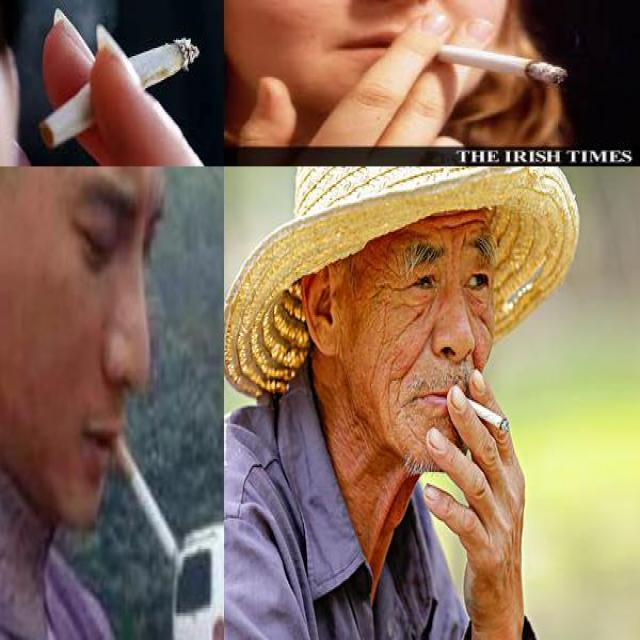cigarette: (42, 38, 200, 148), (106, 430, 185, 576), (425, 41, 568, 84), (456, 394, 510, 432)
